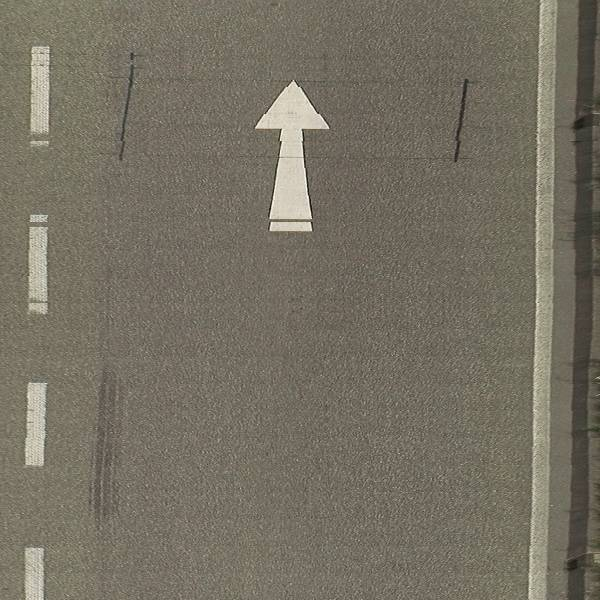road_damage: (111, 71, 485, 173)
